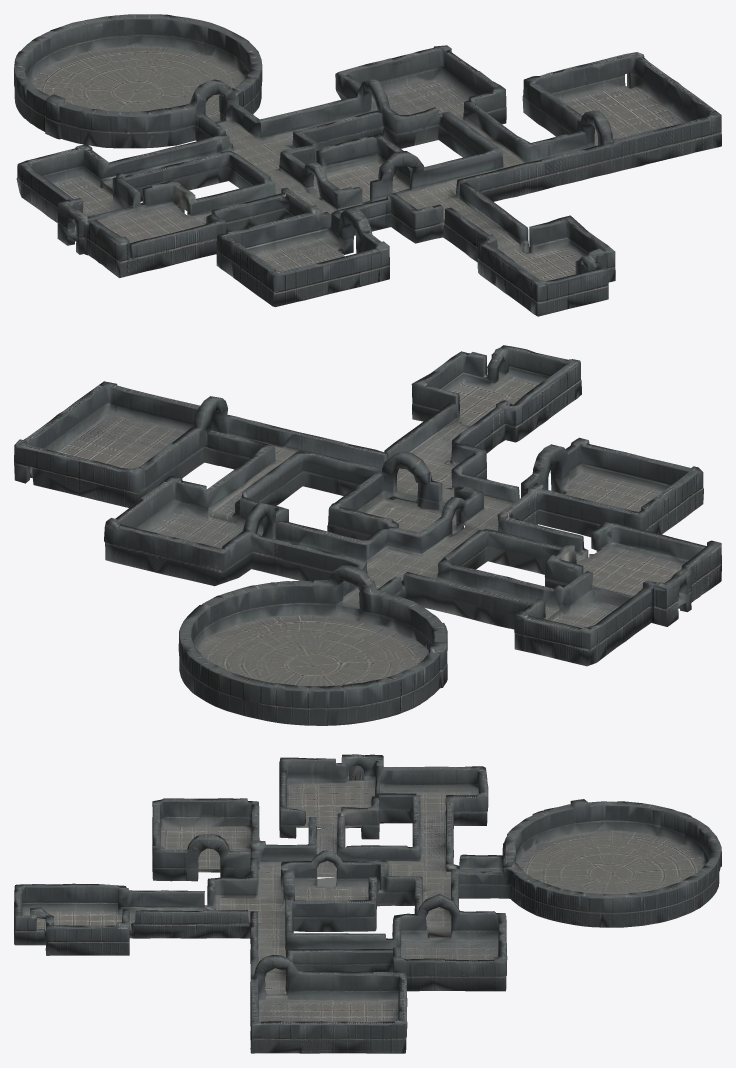
File: dungeon_1.gltf
3 views of the same model, one above another, from view 1: azimuth 30°, elevation 25°; view 2: azimuth 150°, elevation 25°; view 3: azimuth 270°, elevation 25° (orthographic). The views are drawn at different scales.
Parts seen in each view (by area): view 1: tripo_node_ae78e697-d8fd-44d9-bb7f-115f11f4cd8e; view 2: tripo_node_ae78e697-d8fd-44d9-bb7f-115f11f4cd8e; view 3: tripo_node_ae78e697-d8fd-44d9-bb7f-115f11f4cd8e.
Part boxes in pixels (x1=…): tripo_node_ae78e697-d8fd-44d9-bb7f-115f11f4cd8e: x1=14, y1=14, x2=721, y2=316; tripo_node_ae78e697-d8fd-44d9-bb7f-115f11f4cd8e: x1=14, y1=345, x2=721, y2=725; tripo_node_ae78e697-d8fd-44d9-bb7f-115f11f4cd8e: x1=14, y1=754, x2=721, y2=1053.
Bounding box in the file's own units: 216 × 18.53 × 242.
Materials: 1 (1 with a texture image).
